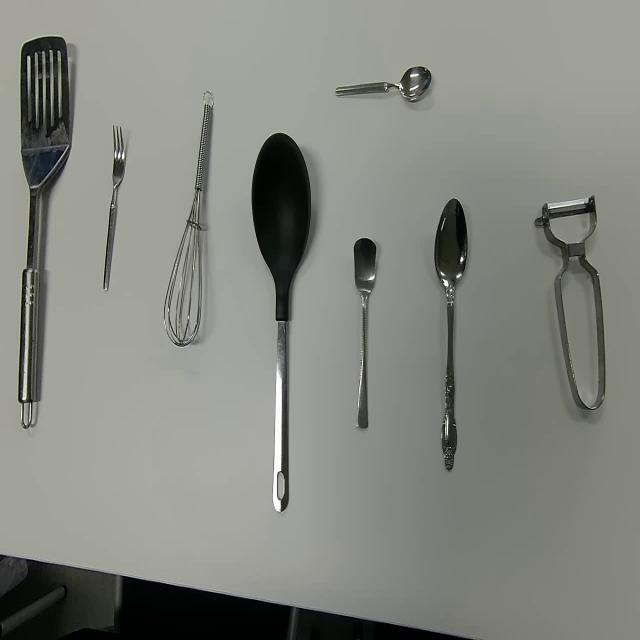Desert-Spoon: (434, 198, 468, 473)
Dinner-Fork: (102, 123, 126, 294)
Peeler: (534, 191, 606, 411)
Serving-Spoon: (250, 130, 312, 512), (17, 34, 71, 432)
Tea-Spoon: (353, 236, 377, 431), (335, 63, 432, 104)
Whisk: (163, 89, 214, 348)
